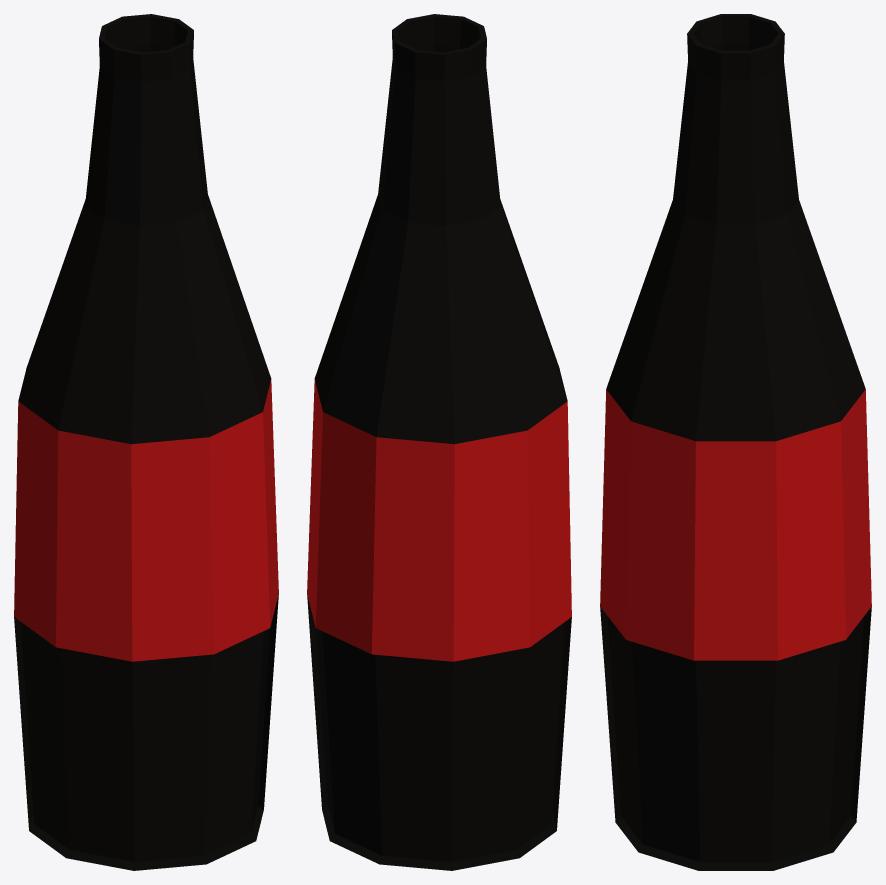
Rendered from soda de don abundio.FBX.
The picture shows the model from 3 angles, left to right: view 1: azimuth 30°, elevation 25°; view 2: azimuth 150°, elevation 25°; view 3: azimuth 270°, elevation 25°; orthographic projection.
Visible parts, largest first — view 1: soda; view 2: soda; view 3: soda.
Boxes of the visible parts, <box> form: soda: <box>14,14,278,870</box>; soda: <box>307,14,571,870</box>; soda: <box>600,14,871,870</box>.
Bounding box in the file's own units: 6.37 × 21.45 × 6.7.
